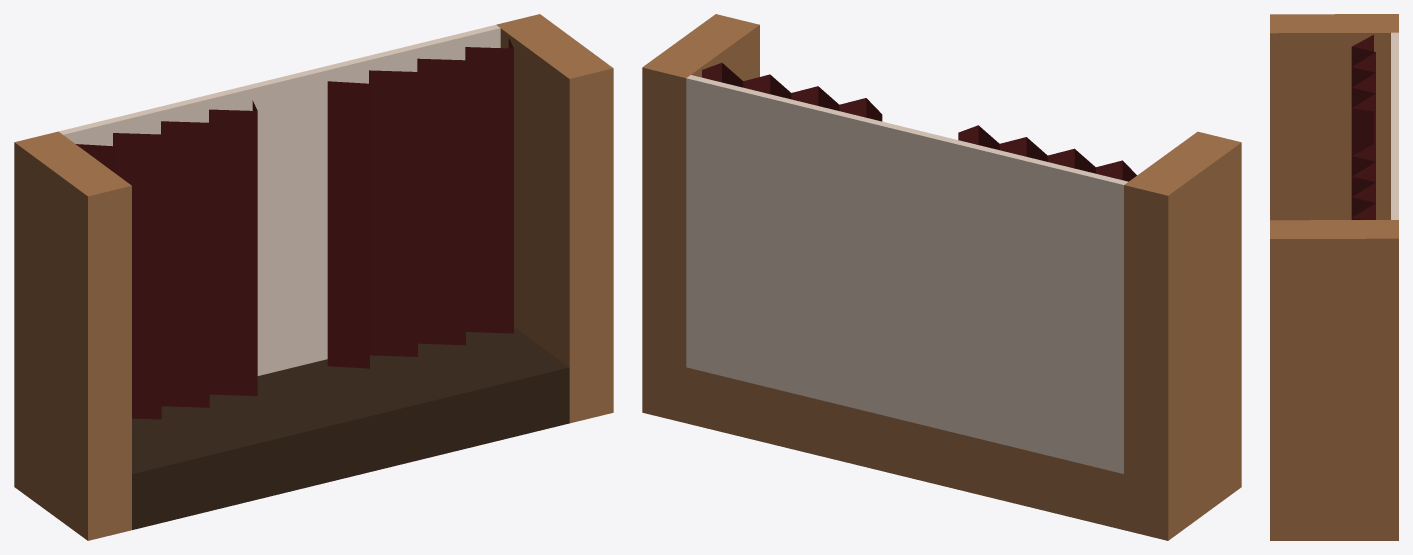
Rendered from Stage.fbx.
3 renders of one model, left to right at view 1: azimuth 30°, elevation 25°; view 2: azimuth 150°, elevation 25°; view 3: azimuth 270°, elevation 25°, orthographic. The views are drawn at different scales.
Parts seen in each view (by area): view 1: 평면.001; view 2: 평면.001; view 3: 평면.001.
Boxes of the visible parts, x1,y1,x2,y2 form: 평면.001: (14, 14, 613, 540); 평면.001: (642, 14, 1241, 540); 평면.001: (1270, 14, 1398, 540).
Size of the model in its own units: 2522 by 1582 by 612.
